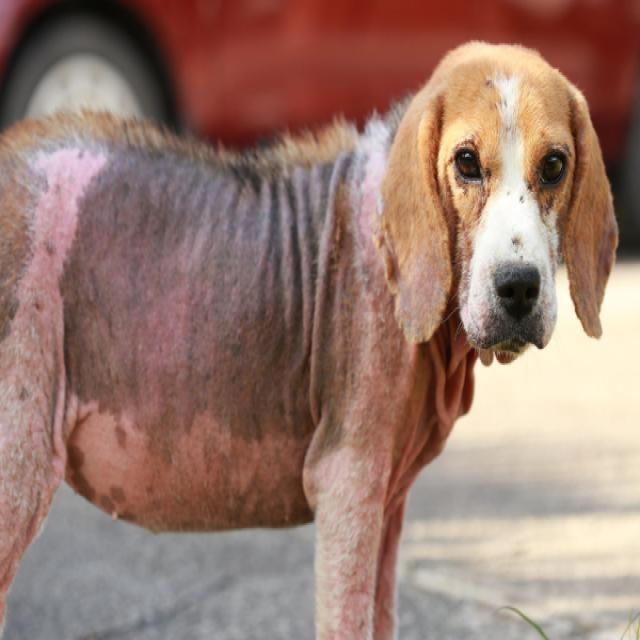mange: (32, 158, 307, 488), (302, 172, 356, 410), (315, 431, 379, 583), (1, 286, 45, 432), (346, 290, 396, 384), (348, 172, 380, 298)
